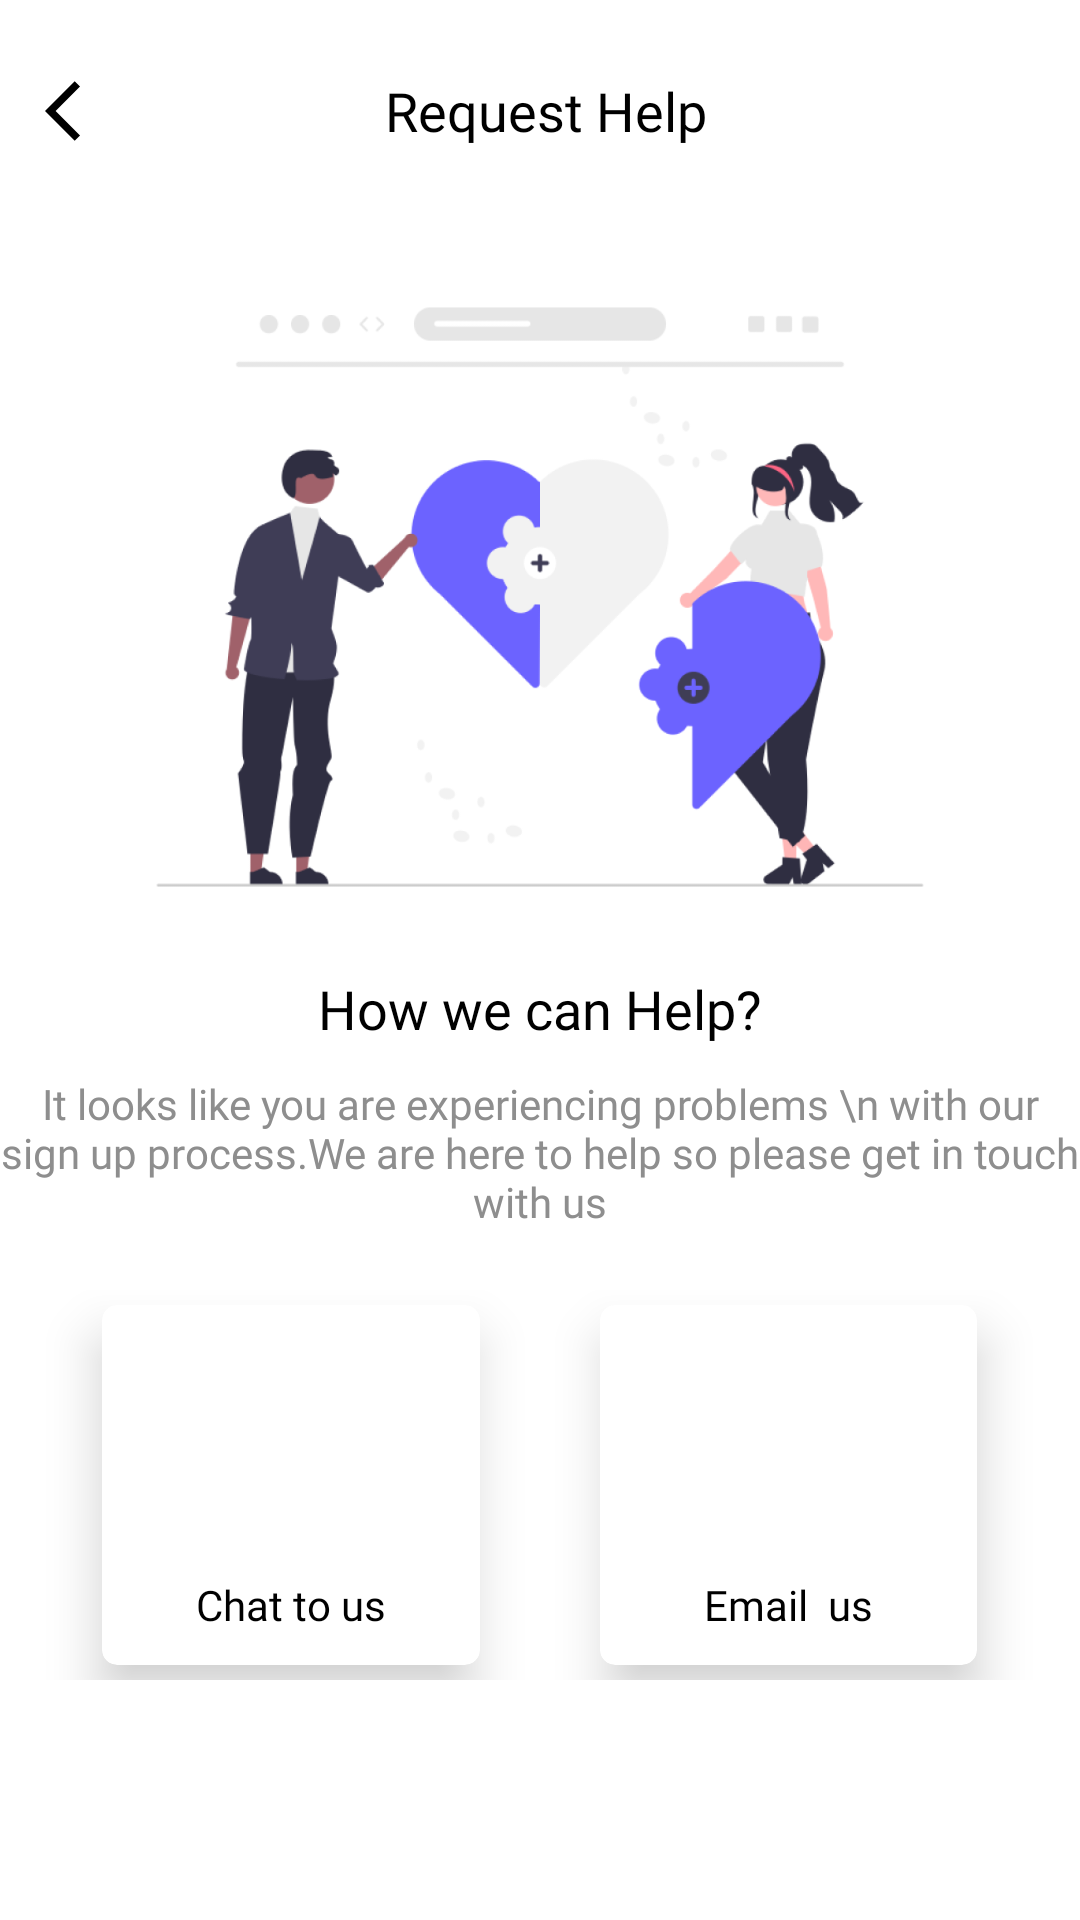

Point at icon controls on the screen. Image size 1080×1920, points as [x,y].
arrow back: [62,111]
